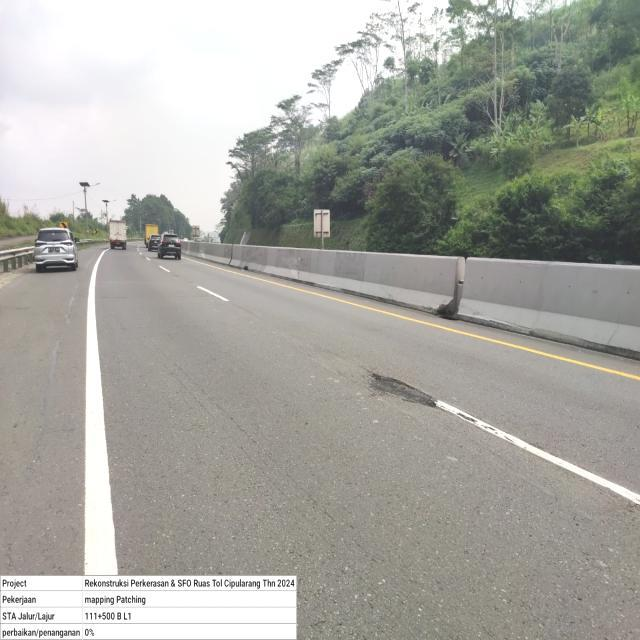Buraco: (366, 372, 440, 409)
